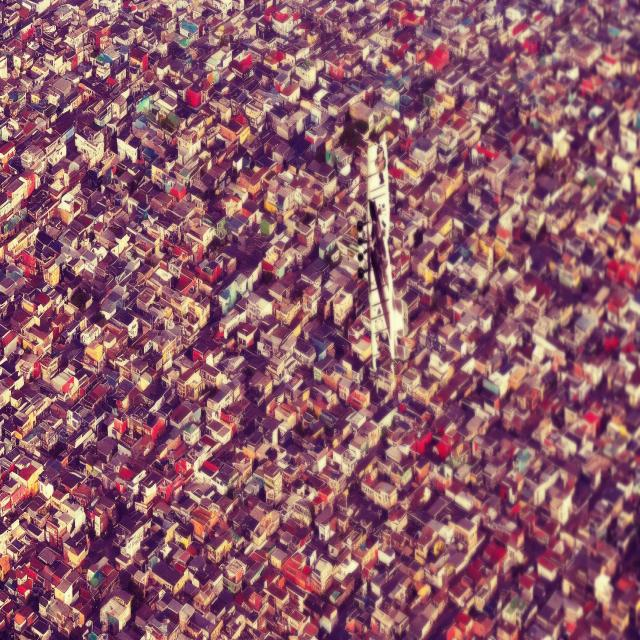airplane: (355, 130, 408, 372)
